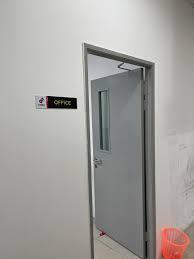exit: (88, 54, 146, 258)
